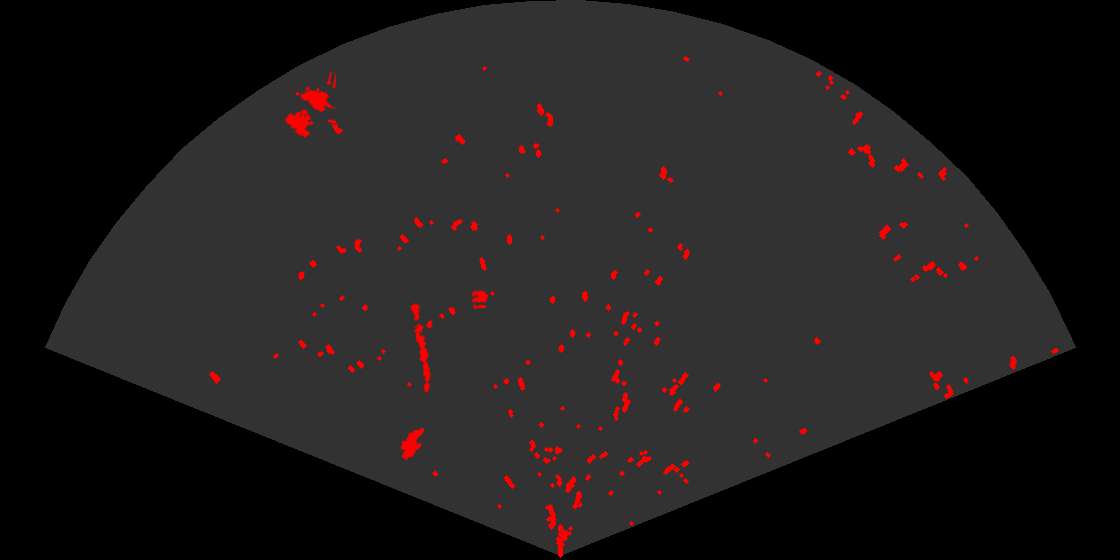AUV: (399, 426, 426, 462)
ball: (469, 289, 490, 311)
cage: (283, 72, 336, 140)
chain: (409, 299, 433, 395)
